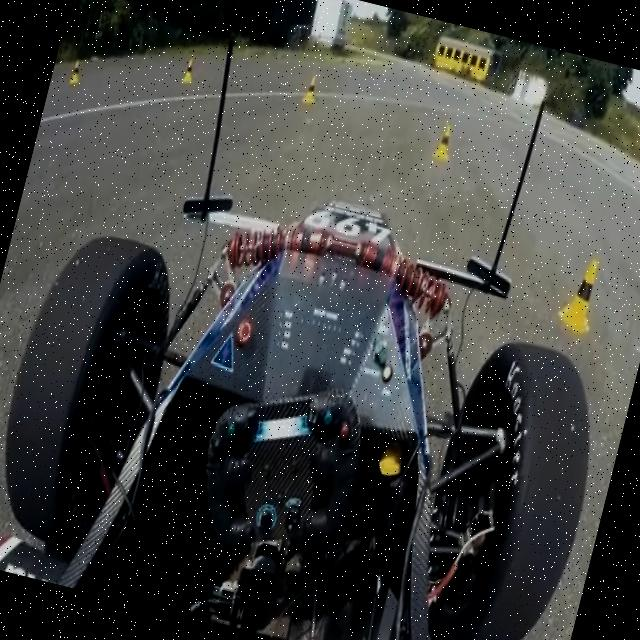yellow_cone: (554, 252, 606, 336), (430, 123, 458, 163), (301, 74, 322, 105), (180, 57, 198, 86), (68, 58, 83, 86)
